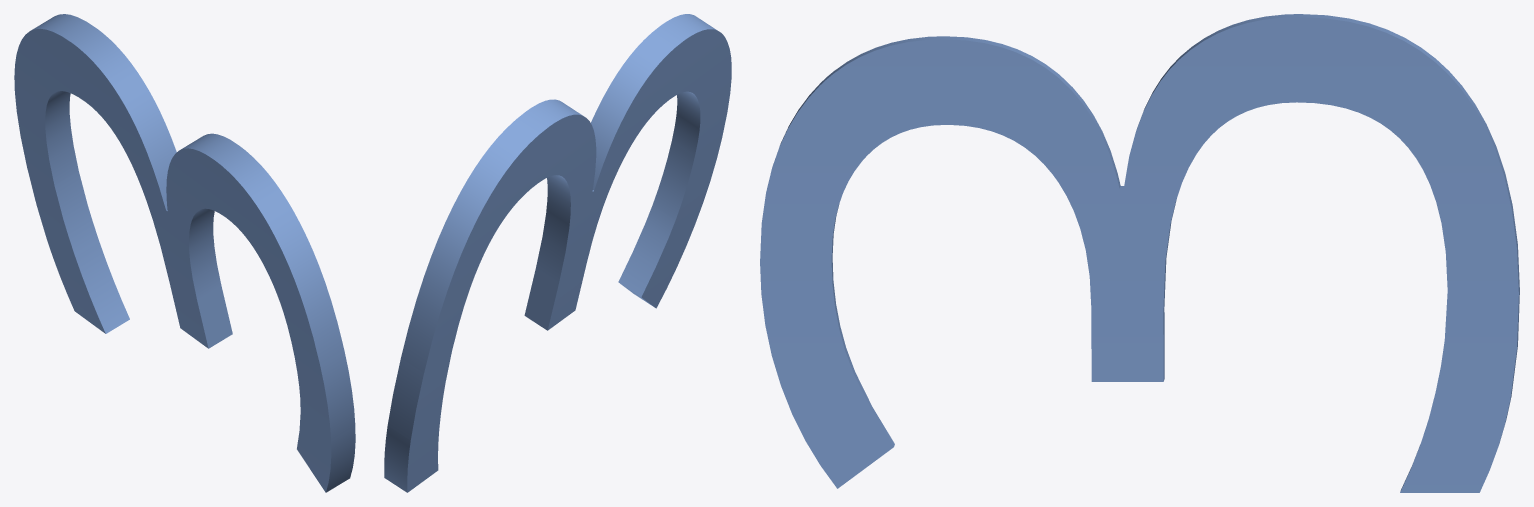
File: New_Number_3.gltf
3 renders of one model, left to right at view 1: azimuth 30°, elevation 25°; view 2: azimuth 150°, elevation 25°; view 3: azimuth 270°, elevation 25°, orthographic. The views are drawn at different scales.
Parts seen in each view (by area): view 1: Part 300; view 2: Part 300; view 3: Part 300.
Boxes of the visible parts, x1,y1,x2,y2 form: Part 300: [14, 14, 355, 492]; Part 300: [384, 14, 731, 492]; Part 300: [760, 14, 1519, 492].
Size of the model in its own units: 0.000973 by 0.00333 by 0.00519.
